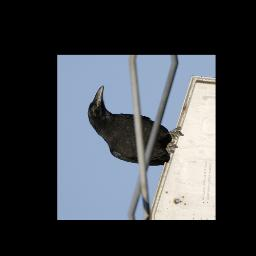Crow: (84, 83, 187, 170)
